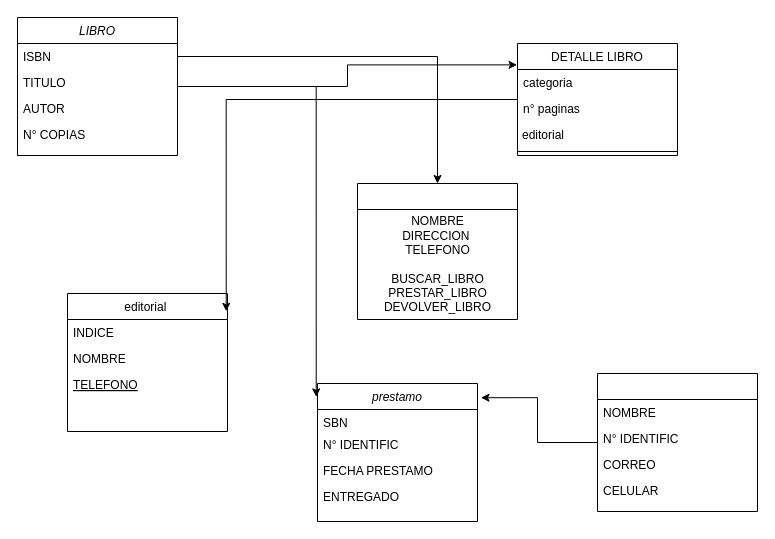
This 775x539 diagram has some shape labels left out. The box of each missing label's shape, as (x1, y1, x2, y2) in pixels:
biblioteca: (356, 182, 518, 320)
úsuario: (596, 372, 758, 512)
